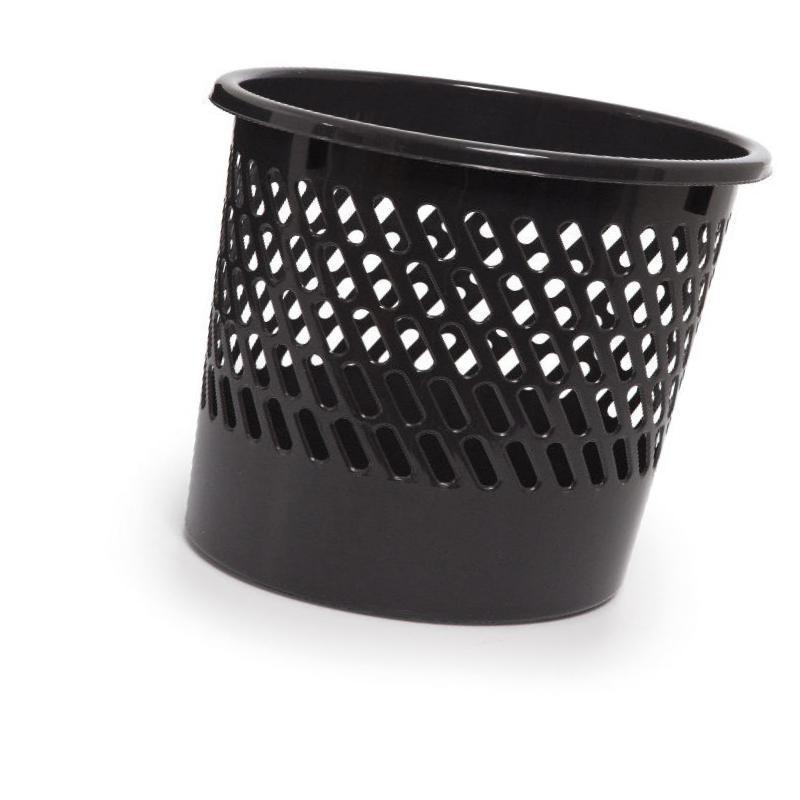Bote de Basura: (196, 32, 773, 647)
